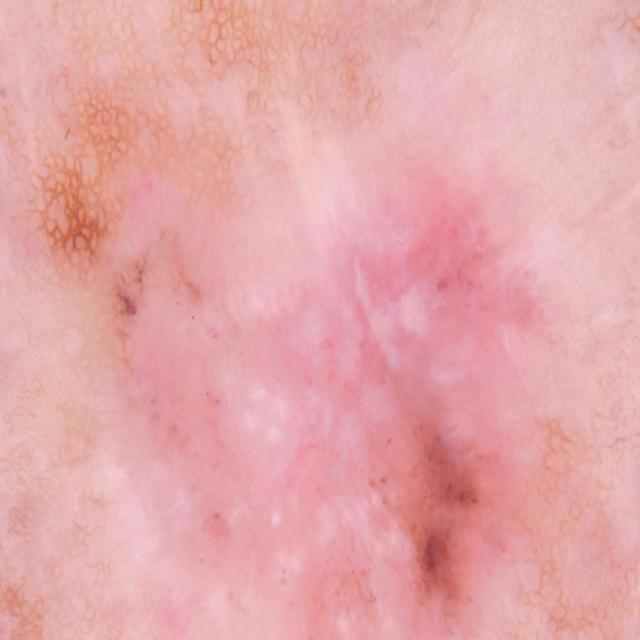Carcinoma: (290, 260, 602, 640), (39, 154, 250, 619), (384, 171, 479, 247)
